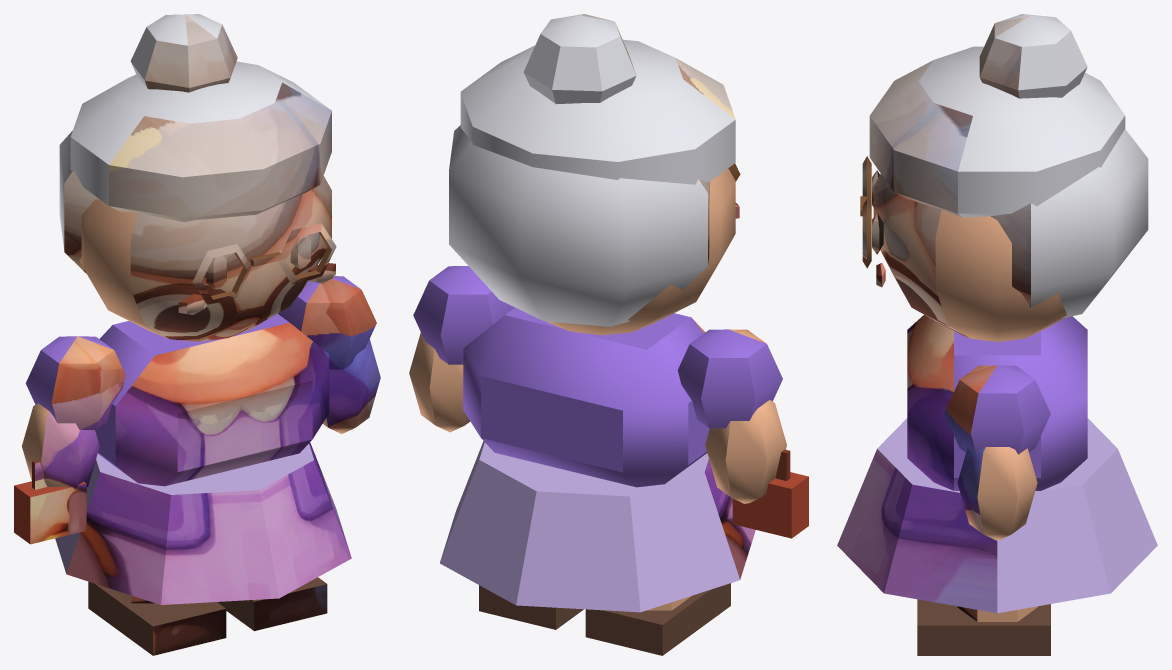
Rendered from guest_03.glb.
3 renders of one model, left to right at view 1: azimuth 30°, elevation 25°; view 2: azimuth 150°, elevation 25°; view 3: azimuth 270°, elevation 25°, orthographic. The views are drawn at different scales.
Parts seen in each view (by area): view 1: guest_03; view 2: guest_03; view 3: guest_03.
Boxes of the visible parts, x1,y1,x2,y2 form: guest_03: [14, 14, 380, 655]; guest_03: [409, 14, 808, 655]; guest_03: [837, 14, 1157, 655].
Size of the model in its own units: 0.3002 by 0.4679 by 0.228.
11 materials, 1 textured.
